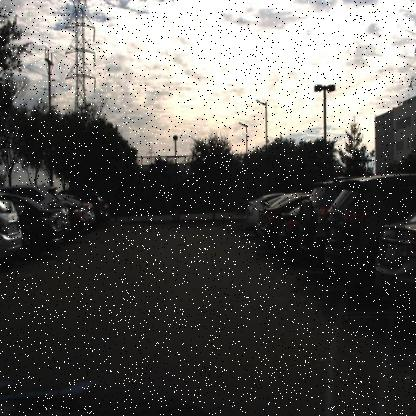car: (324, 174, 414, 288), (296, 176, 340, 275), (0, 192, 62, 252), (10, 180, 69, 228), (258, 193, 301, 248), (277, 200, 306, 255), (66, 200, 87, 236)
